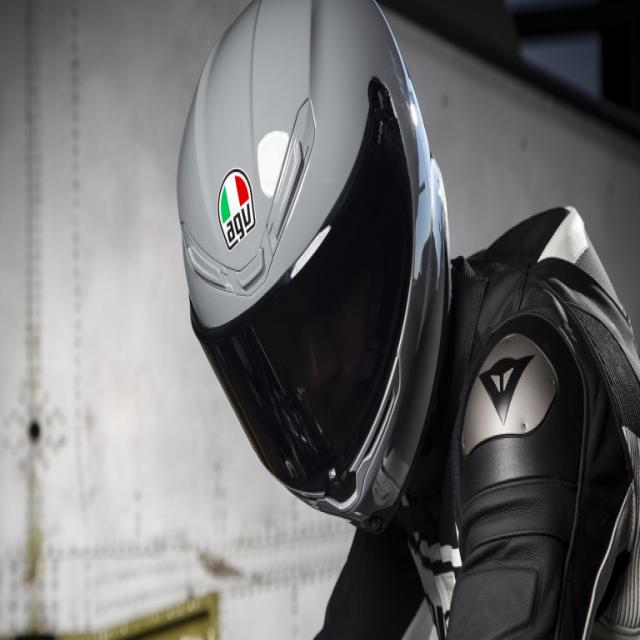Helm: (174, 0, 454, 539)
